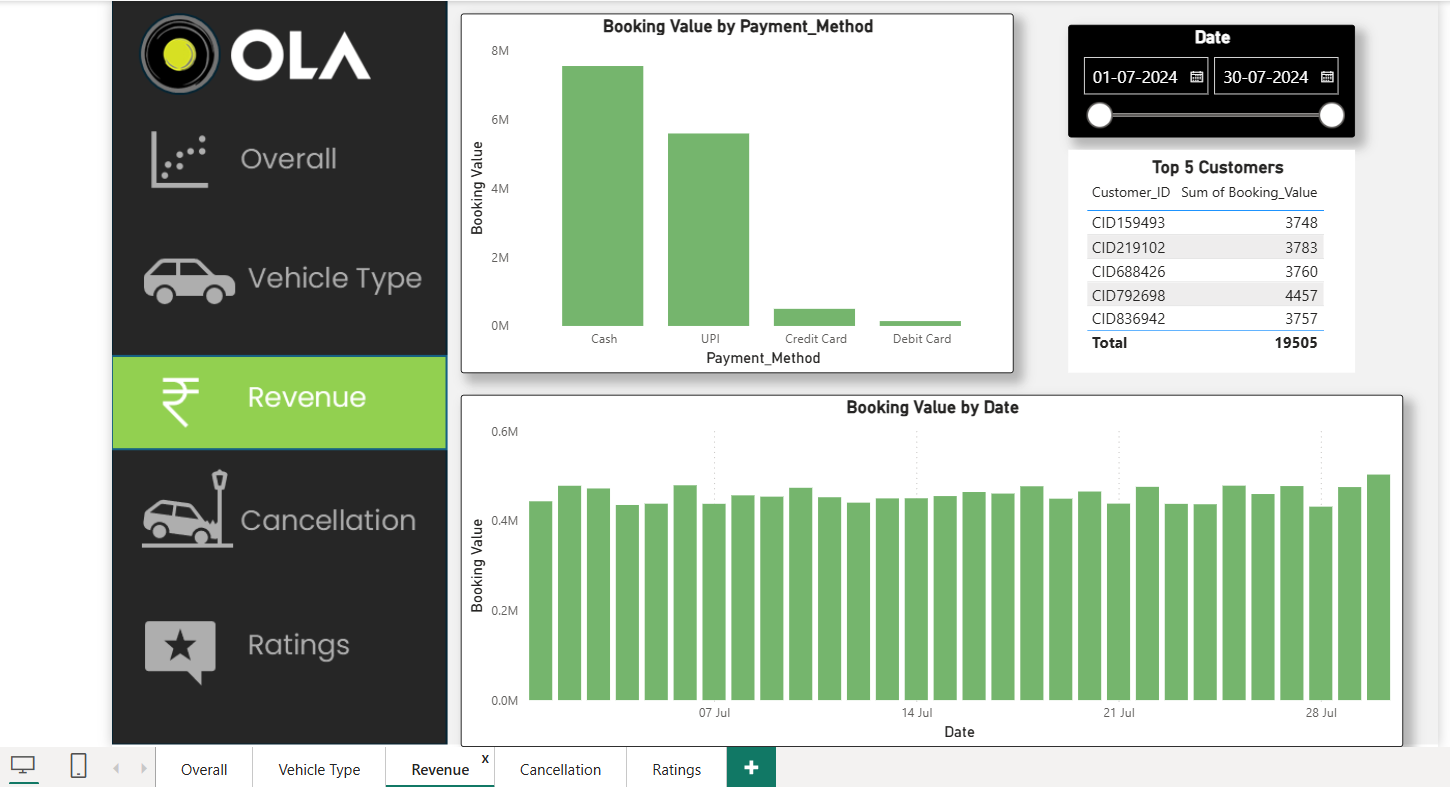

What the dashboard file says about the page in this screenshot:
{"tool":"powerbi","page":{"name":"Revenue","canvas":[1280,720],"ordinal":2},"visuals":[{"type":"actionButton","box":[0,222,326.9,96.5],"z":0},{"type":"actionButton","box":[0,468.1,326.9,96.5],"z":1},{"type":"actionButton","box":[0,576.7,326.9,96.5],"z":2},{"type":"actionButton","box":[0,108.6,326.9,96.5],"z":3},{"type":"columnChart","fields":{"Y":["Sum(Booking.Booking_Value)"],"Category":["Booking.Payment_Method"]},"box":[336.2,12.3,533.8,347.2],"z":4},{"type":"columnChart","fields":{"Y":["Sum(Booking.Booking_Value)"],"Category":["Booking.Date"]},"box":[336.2,380.1,909.8,340.3],"z":5},{"type":"slicer","title":"Date","fields":{"Values":["Booking.Date"]},"box":[923.5,23.3,277.2,108.4],"z":6},{"type":"tableEx","title":"Top 5 Customers","fields":{"Values":["Booking.Customer_ID","Sum(Booking.Booking_Value)"]},"box":[923.5,144.1,277.2,215.4],"z":7}]}

Visuals, with their boxes on the page's 1280x720 design canvas (x1, y1, x2, y2). These are canvas units, not pixel positions in the 1450x787 screenshot, which may show the page scaled, cropped or inside an application window:
actionButton: bbox=(0, 222, 327, 318)
actionButton: bbox=(0, 468, 327, 565)
actionButton: bbox=(0, 577, 327, 673)
actionButton: bbox=(0, 109, 327, 205)
columnChart - Sum(Booking.Booking_Value) x Booking.Payment_Method: bbox=(336, 12, 870, 360)
columnChart - Sum(Booking.Booking_Value) x Booking.Date: bbox=(336, 380, 1246, 720)
"Date" slicer: bbox=(924, 23, 1201, 132)
"Top 5 Customers" tableEx: bbox=(924, 144, 1201, 360)
